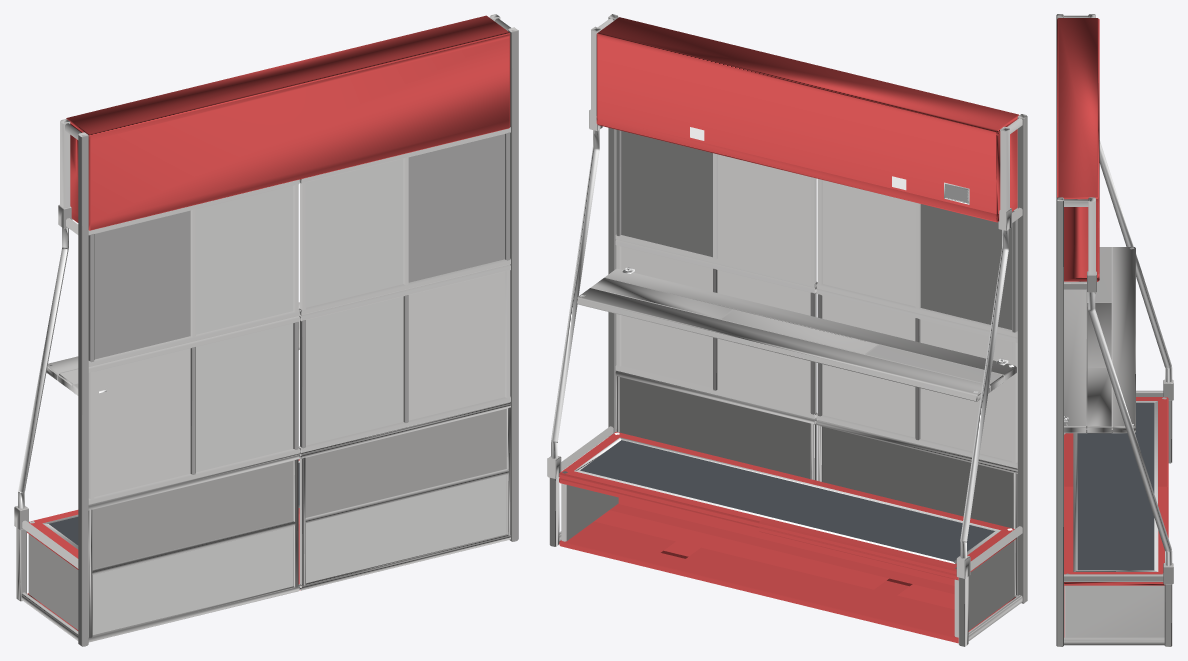
File: rack_clothing_2_04x01x045_a.glb
3 views of the same model, side by side, from view 1: azimuth 30°, elevation 25°; view 2: azimuth 150°, elevation 25°; view 3: azimuth 270°, elevation 25° (orthographic). The views are drawn at different scales.
Size of the model in its own units: 3.08 by 3.42 by 0.8127.
